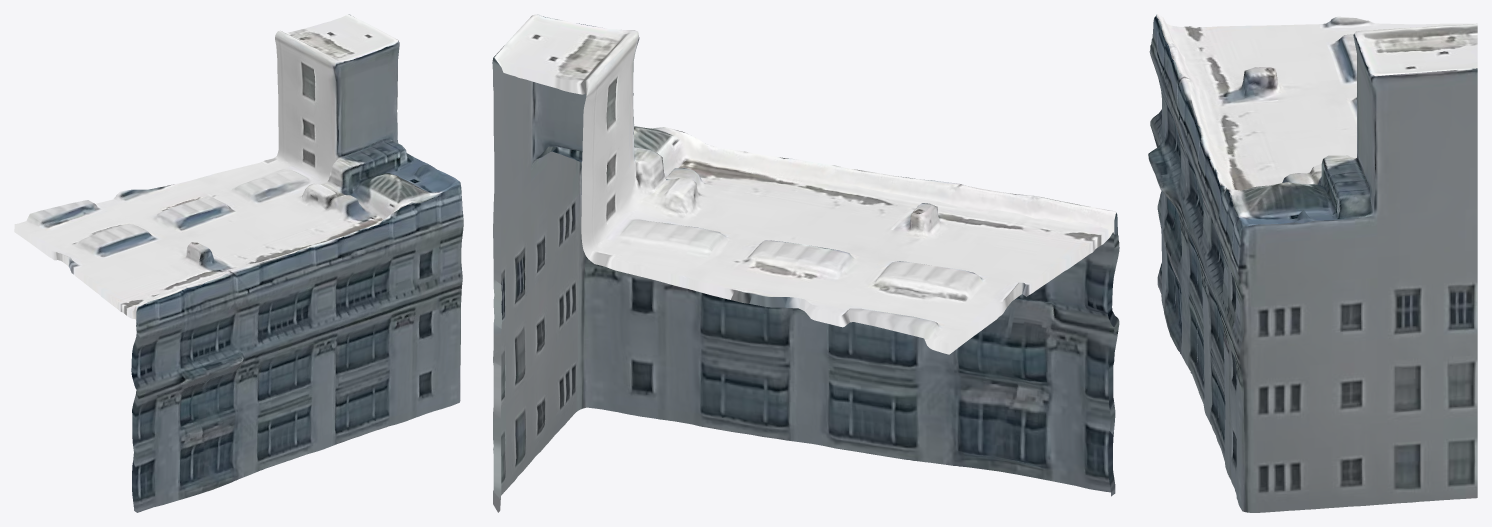
The model's file is z20-167759-405240-h1-yup-uvflip-v3-world.glb.
3 renders of one model, left to right at view 1: azimuth 30°, elevation 25°; view 2: azimuth 150°, elevation 25°; view 3: azimuth 270°, elevation 25°, orthographic. The views are drawn at different scales.
Bounding box in the file's own units: 30.16 × 26.8 × 18.32.
1 material, 1 textured.
